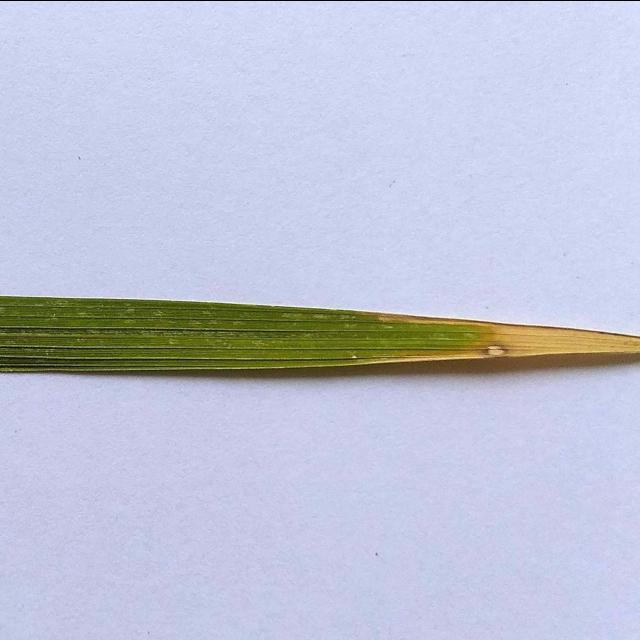Leaf blast: (0, 266, 640, 408)
